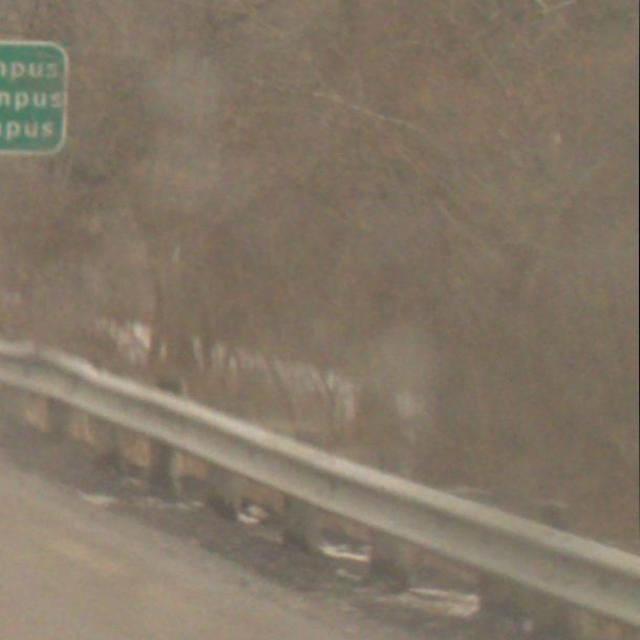Guard rail: (0, 330, 640, 640)
